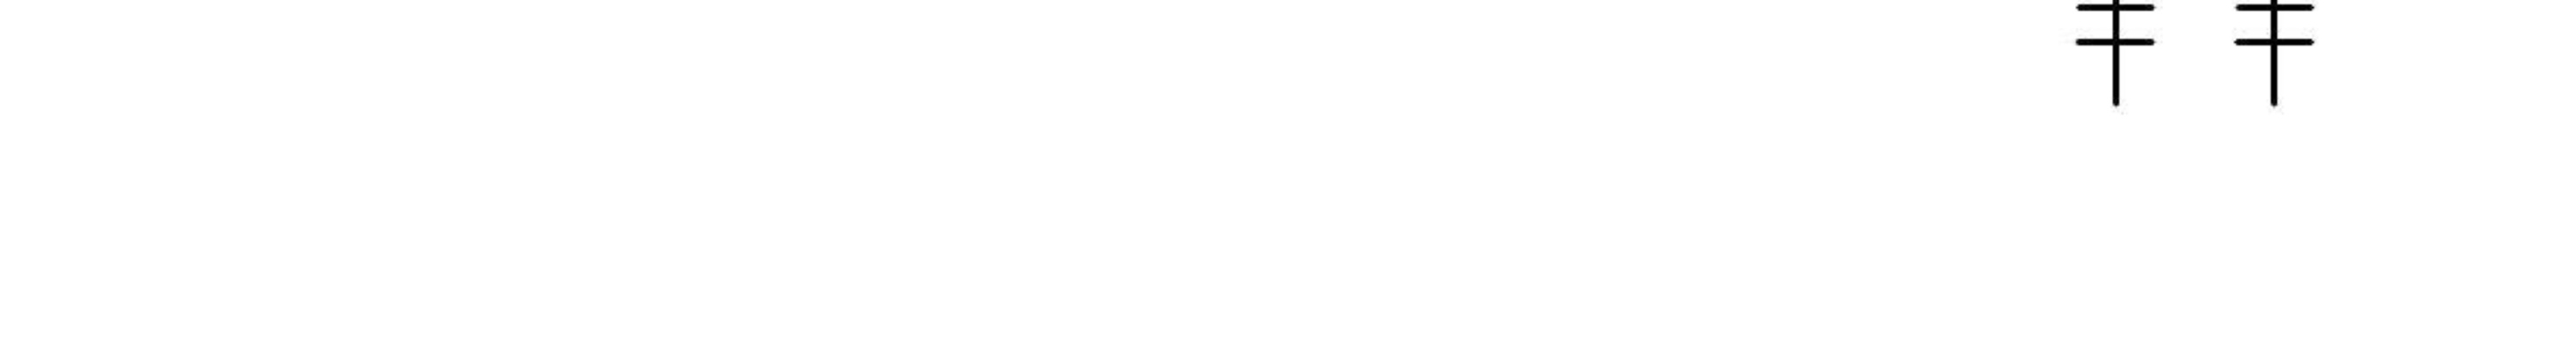115_buffer: (2234, 5, 2315, 46), (2075, 5, 2155, 46)
